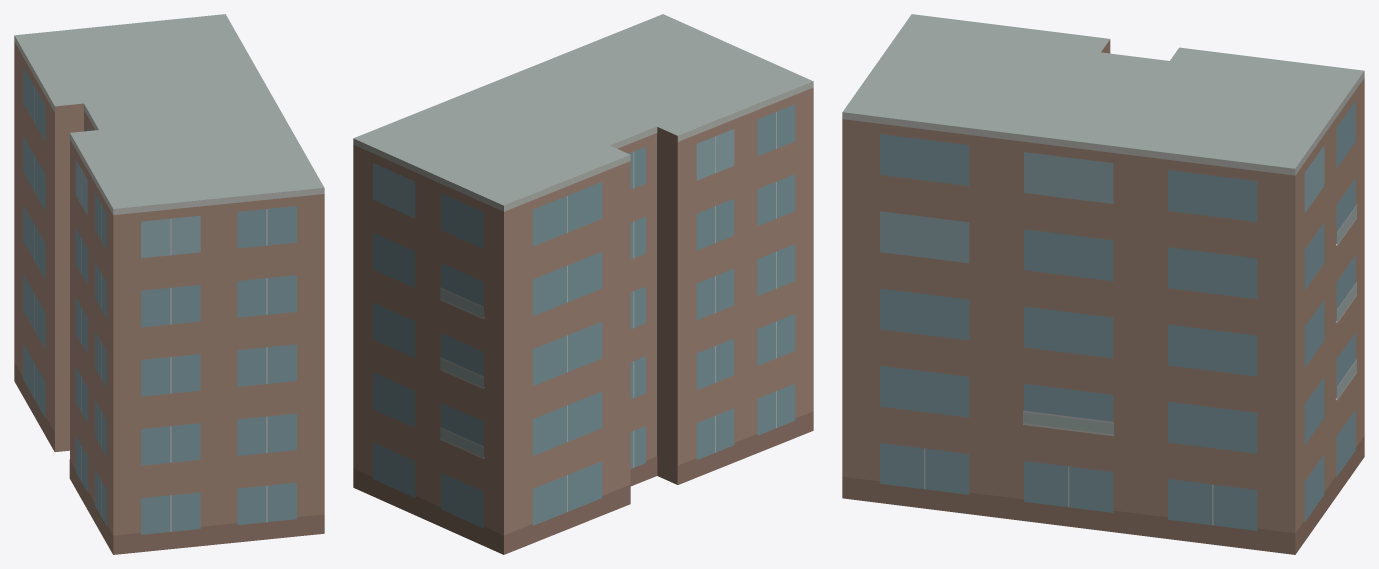
File: survey-upis-32876111.glb
3 renders of one model, left to right at view 1: azimuth 30°, elevation 25°; view 2: azimuth 150°, elevation 25°; view 3: azimuth 270°, elevation 25°, orthographic. The views are drawn at different scales.
Visible parts, largest first — view 1: survey-upis-32876111.tmp; view 2: survey-upis-32876111.tmp; view 3: survey-upis-32876111.tmp.
Boxes of the visible parts, x1,y1,x2,y2 form: survey-upis-32876111.tmp: [14, 14, 324, 554]; survey-upis-32876111.tmp: [353, 14, 813, 554]; survey-upis-32876111.tmp: [842, 14, 1364, 554].
Size of the model in its own units: 11.88 by 13.8 by 16.93.
